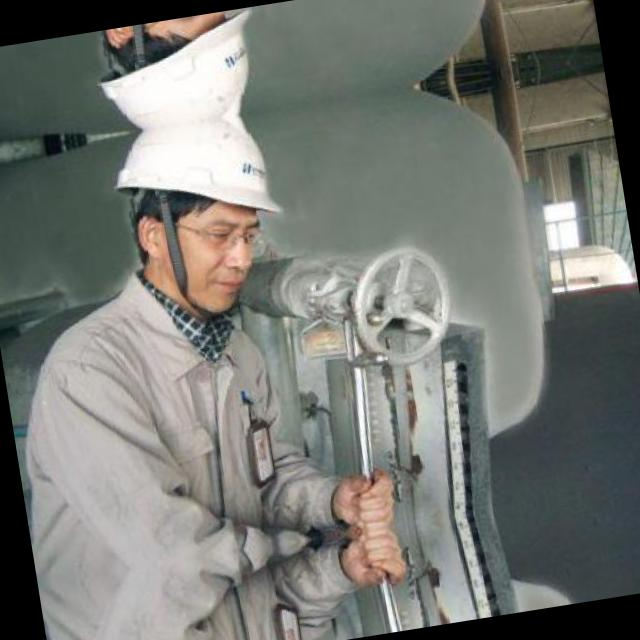helmet: (92, 108, 304, 330), (76, 5, 276, 140)
